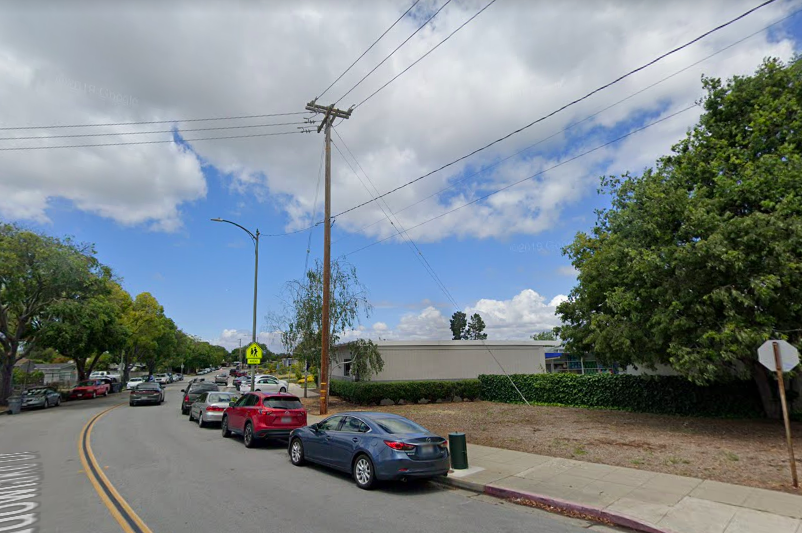utility_pole: (298, 85, 360, 153)
